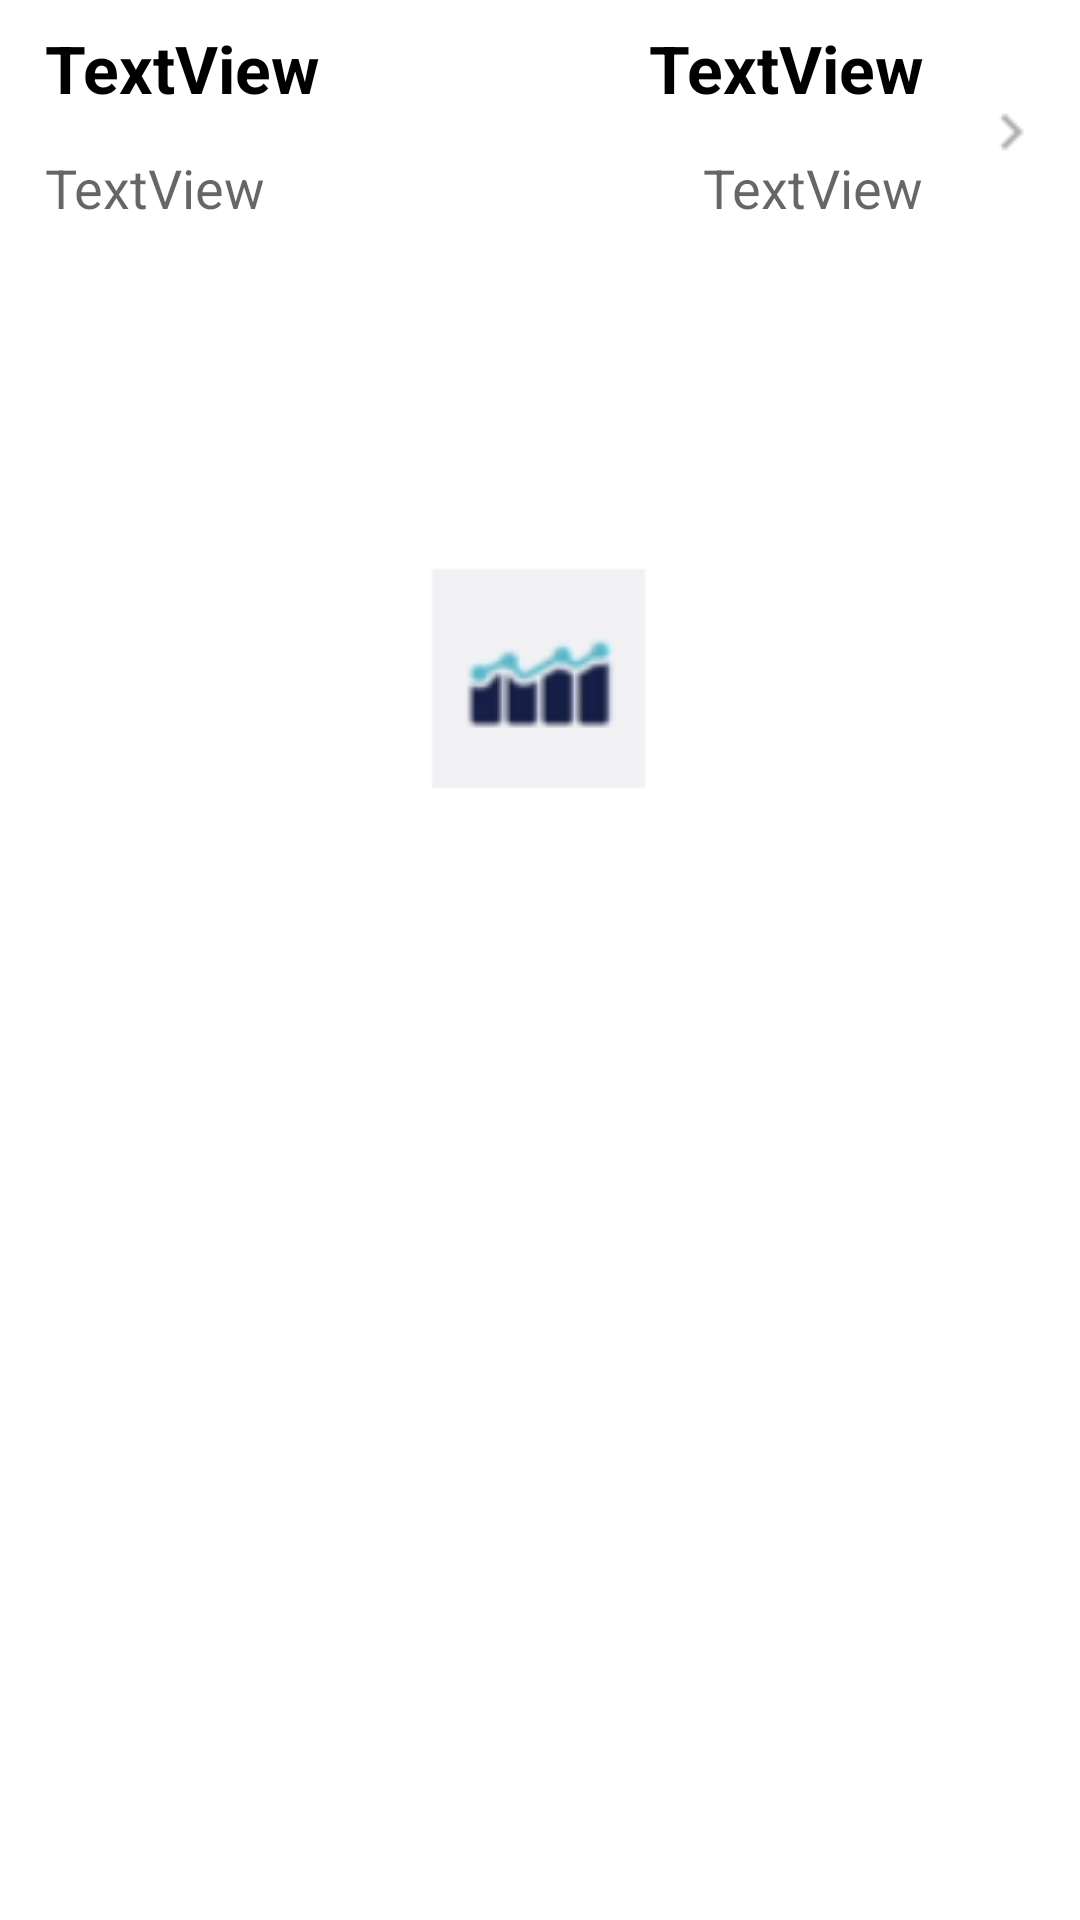

Screen size 1080 x 1920. Icon name, then its center in pixels as point (x, y):
chevron right: point (1012, 132)
